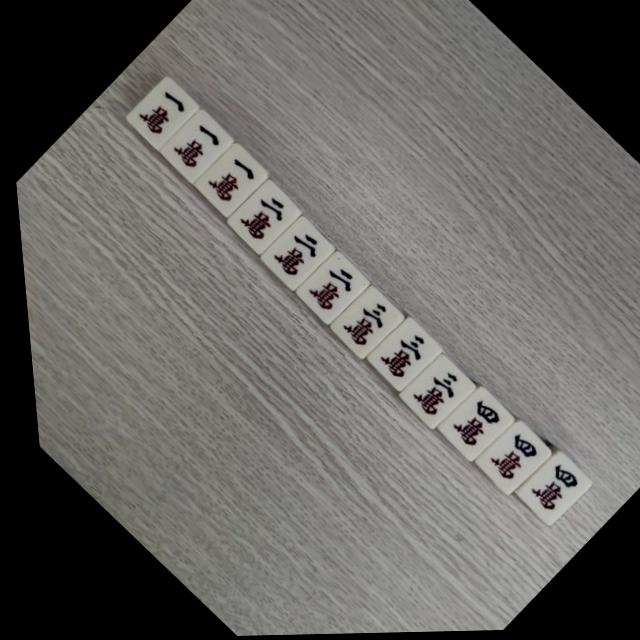sc1: (159, 113, 230, 179), (194, 146, 265, 212), (126, 80, 196, 146)
sc2: (225, 183, 297, 251), (258, 219, 329, 286), (292, 255, 363, 321)
sc3: (394, 358, 467, 426), (325, 289, 397, 357), (363, 322, 433, 388)
sc4: (433, 391, 506, 459), (469, 424, 541, 492), (510, 457, 580, 522)
